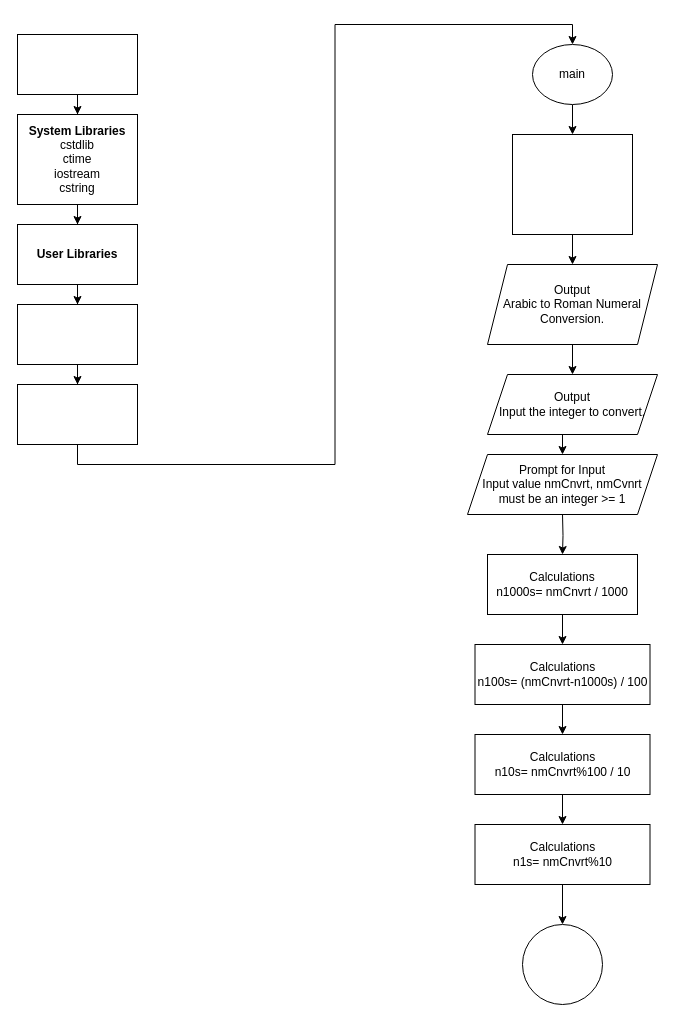
This 675x1022 diagram has some shape labels left out. Each missing label, with the box of its shape:
Declare Variables nmCnvrt n1000s n100s n10s n1s: (512, 134, 632, 234)
Function Protypes: (16, 384, 138, 444)
Global Constants: (16, 304, 138, 364)
Ismael Perez 4/19/22 Roman Numeral Flowchart: (16, 34, 138, 94)
Page 2: (522, 924, 602, 1004)
